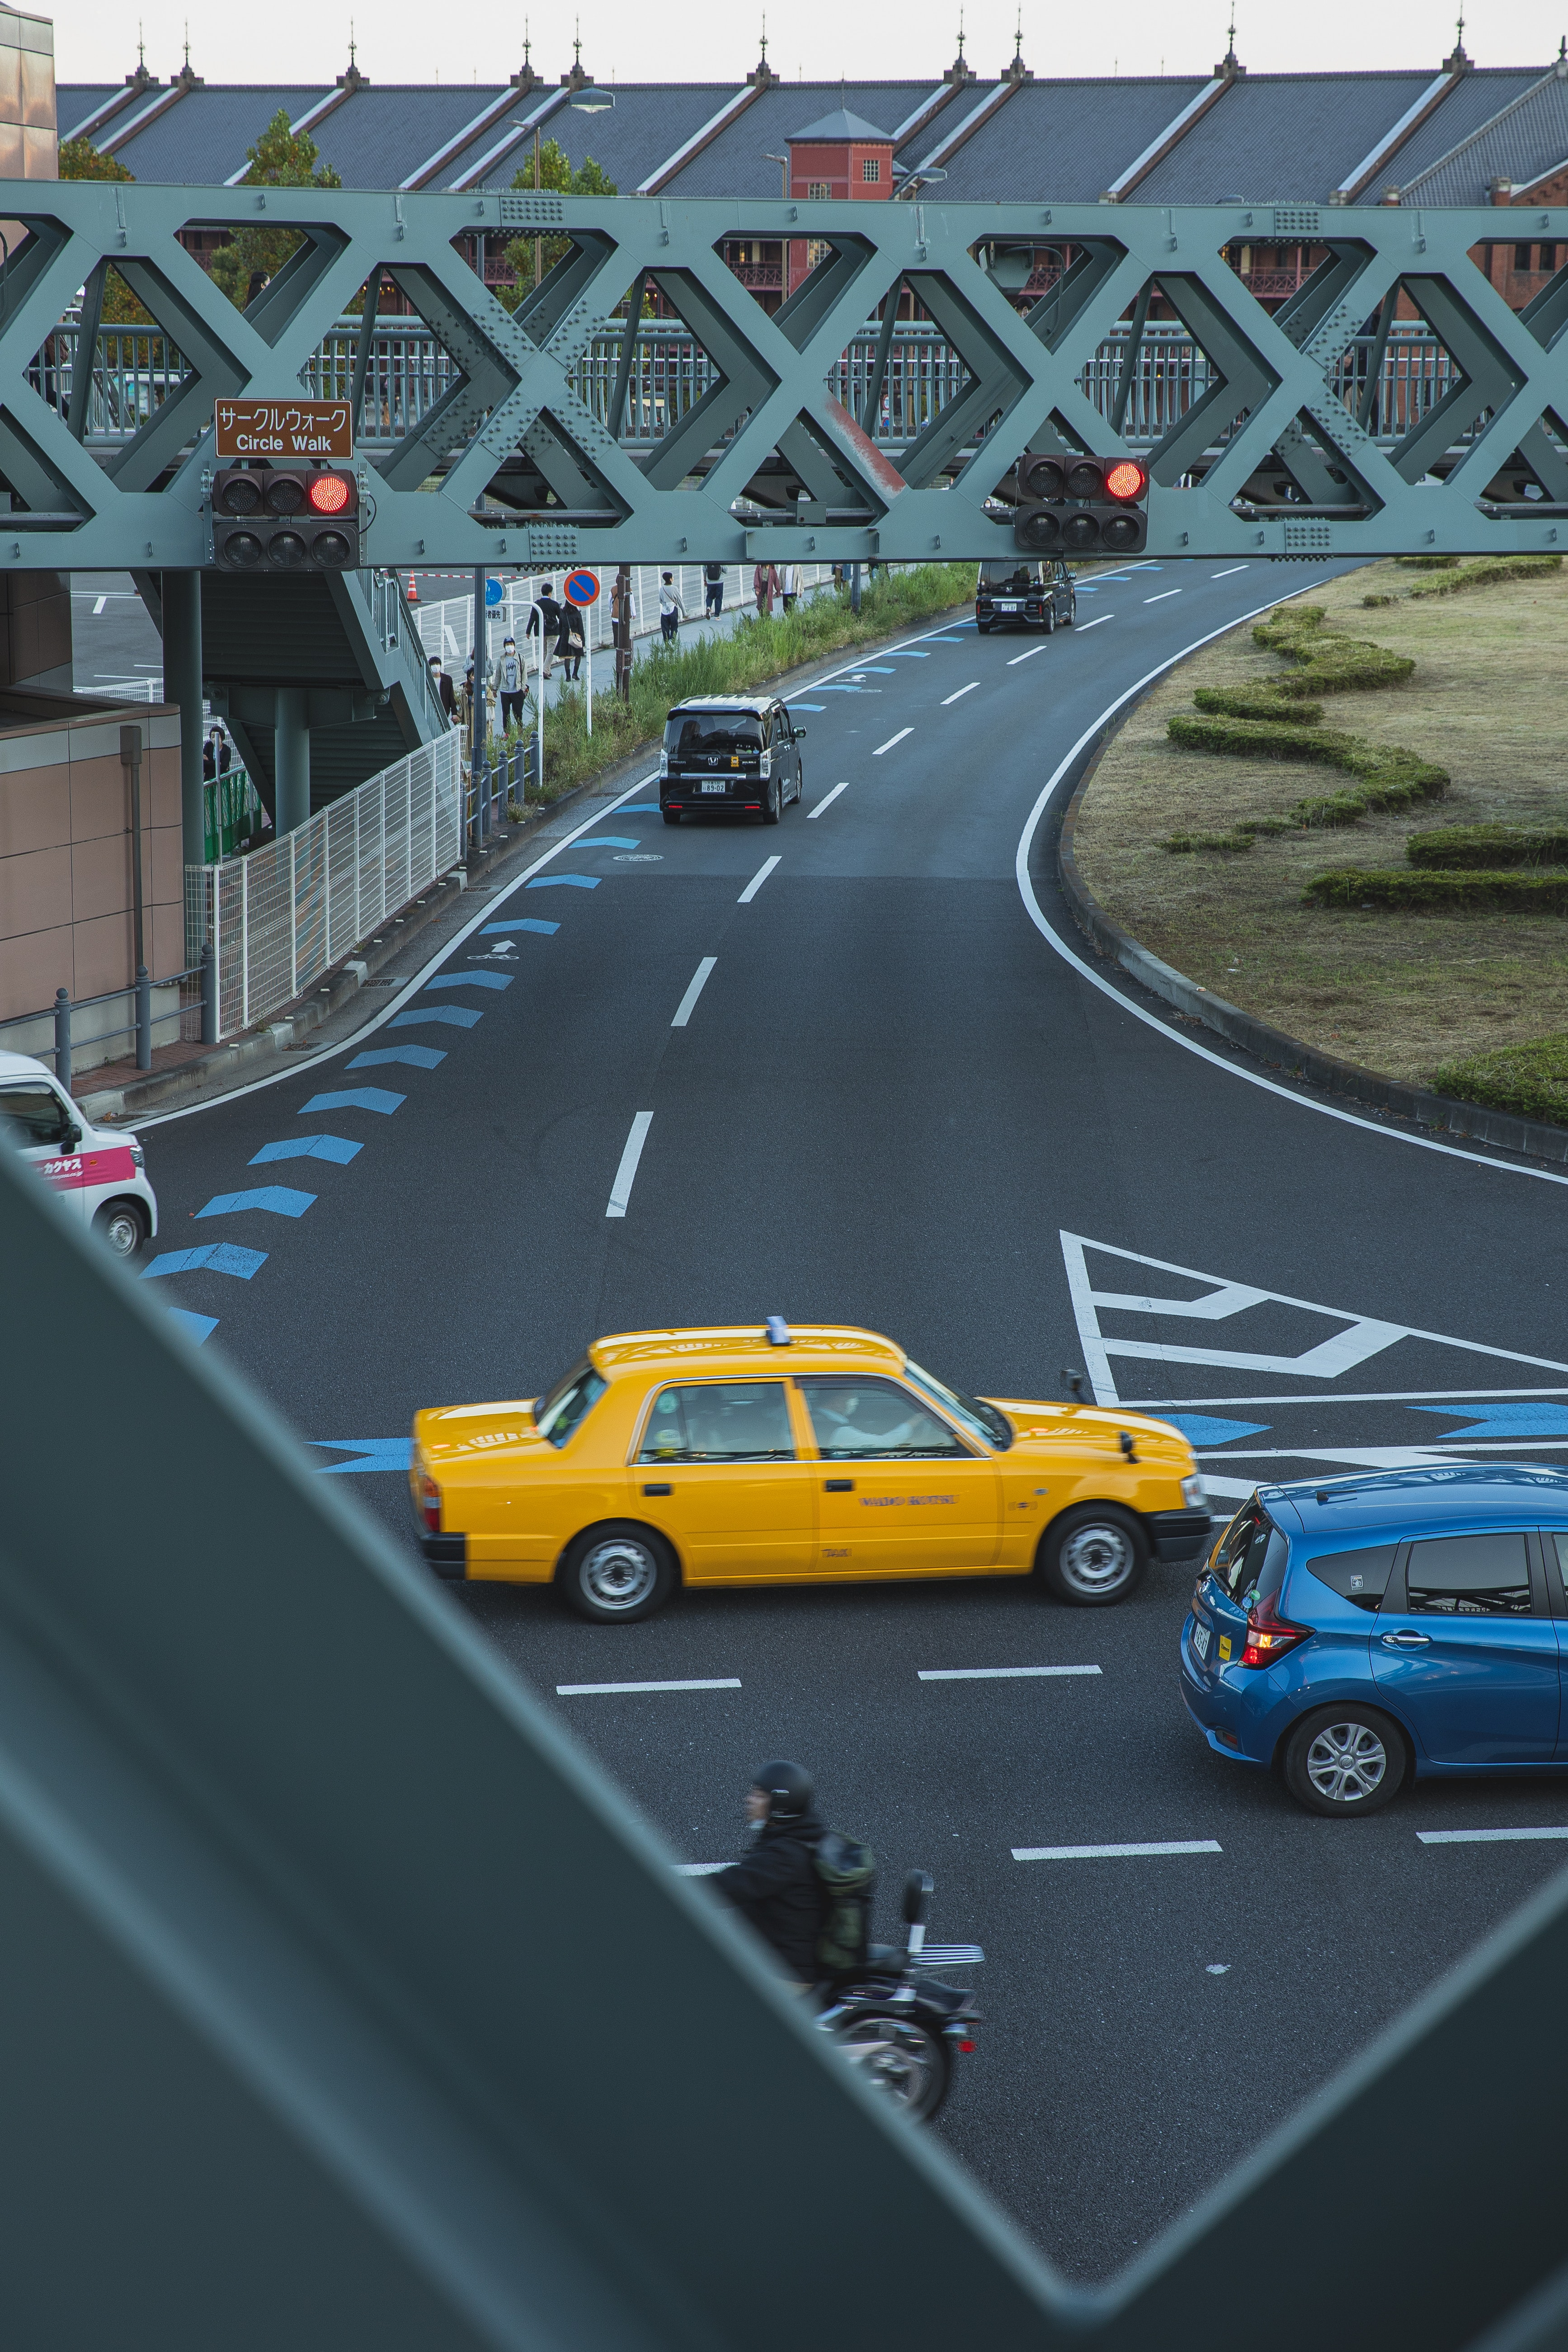car: (416, 1311, 1192, 1617), (1192, 1452, 1568, 1811), (661, 684, 784, 843)
